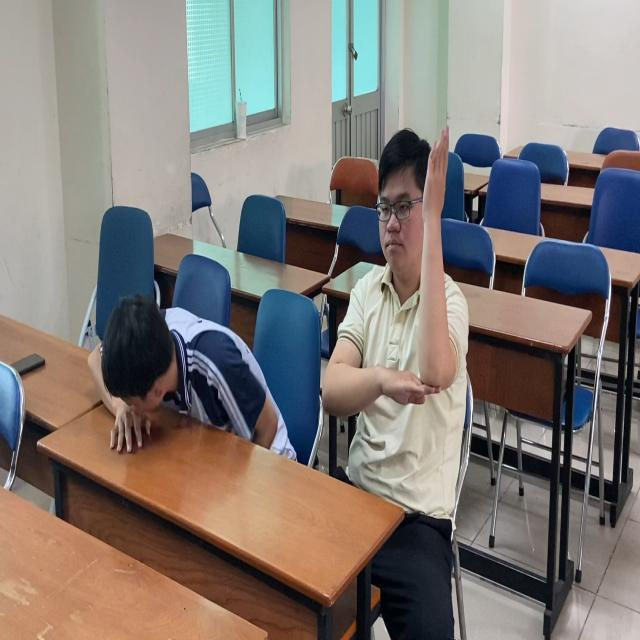raise_hand: (322, 114, 474, 498)
sleep: (76, 282, 291, 461)
